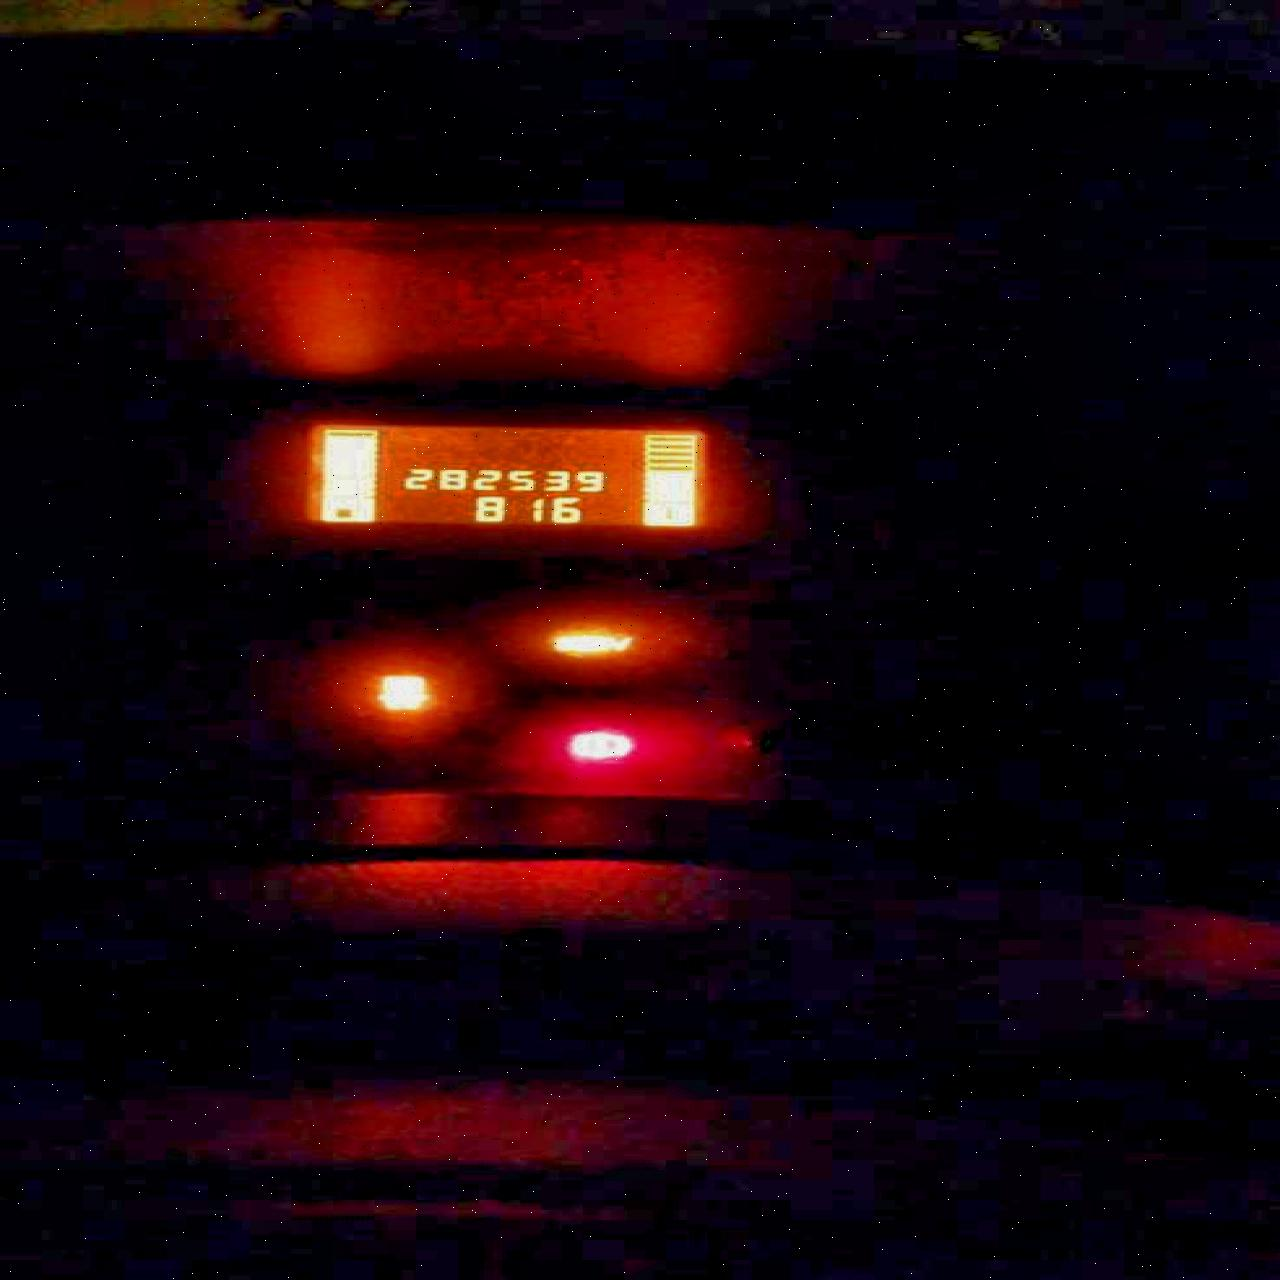1: (528, 495, 544, 521)
2: (401, 466, 432, 490), (471, 468, 499, 488)
3: (544, 469, 570, 490)
5: (505, 469, 536, 490)
6: (549, 495, 583, 523)
8: (471, 494, 502, 521), (434, 468, 466, 490)
9: (572, 469, 601, 491)
odometer: (278, 413, 724, 532)
